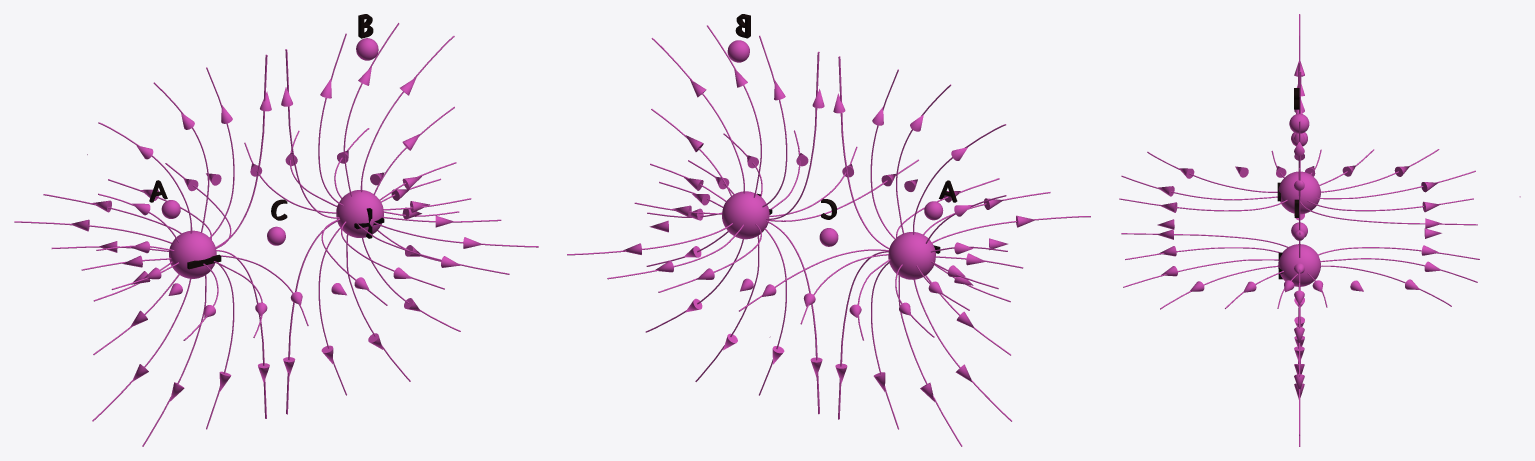
The model's file is field_lines_of_two_positive_charge.glb.
3 renders of one model, left to right at view 1: azimuth 30°, elevation 25°; view 2: azimuth 150°, elevation 25°; view 3: azimuth 270°, elevation 25°, orthographic. The views are drawn at different scales.
Visible parts, largest first — view 1: pasted__pSphere3, pSphere3; view 2: pSphere3, pasted__pSphere3; view 3: pSphere3, pasted__pSphere3.
Boxes of the visible parts, x1,y1,x2,y2 form: pasted__pSphere3: (169,230,216,278); pSphere3: (336,190,383,237); pSphere3: (722,191,769,239); pasted__pSphere3: (888,232,935,279); pSphere3: (1278,244,1320,286); pasted__pSphere3: (1278,171,1320,214).
Size of the model in its own units: 0.1763 by 0.174 by 0.1871.
